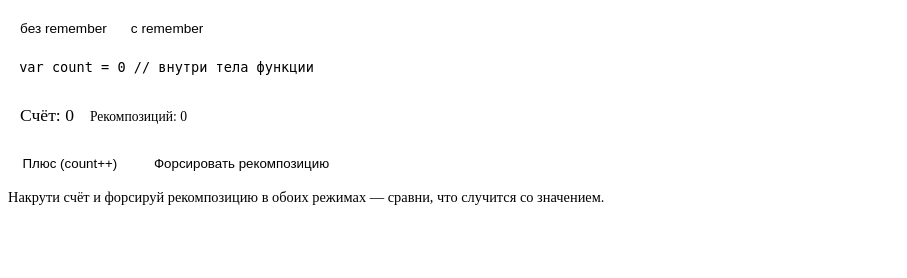
Test: обе судьбы значения: плашка «Выполнено!», запись в store и XP
Click the button "Плюс (count++)" at (70, 164), box [8,150,132,177]
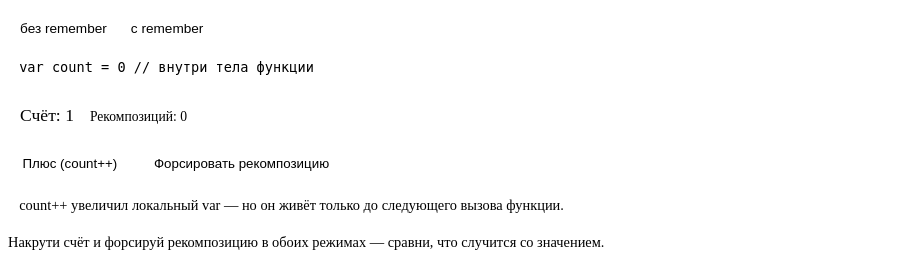
Click the button "Форсировать рекомпозицию" at (242, 164), box [140,150,344,177]
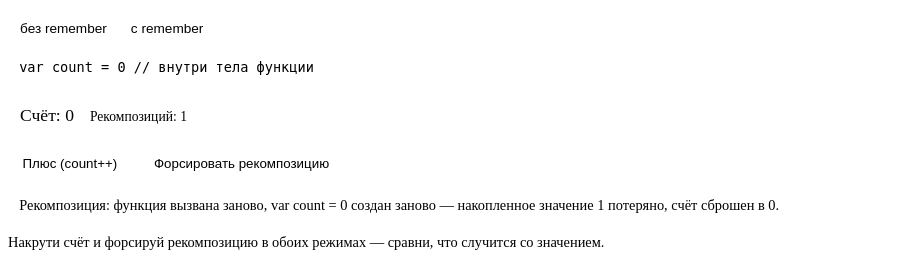
Expected: the text "Выполнено!" is not shown
Click the button "с remember" at (167, 28), box [119,16,215,41]
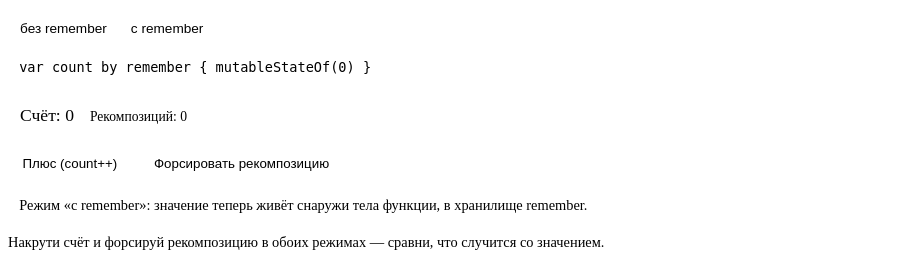
Click the button "Плюс (count++)" at (70, 164), box [8,150,132,177]
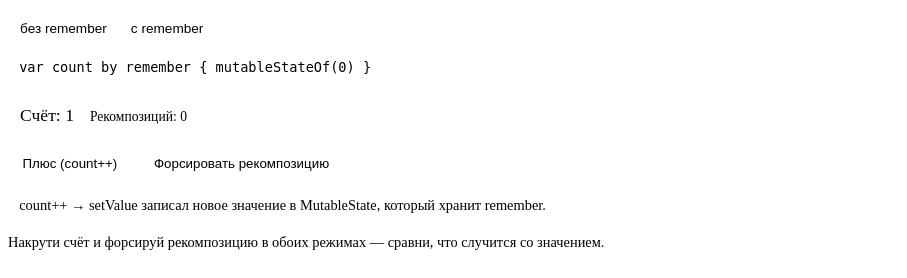
Click the button "Форсировать рекомпозицию" at (242, 164), box [140,150,344,177]
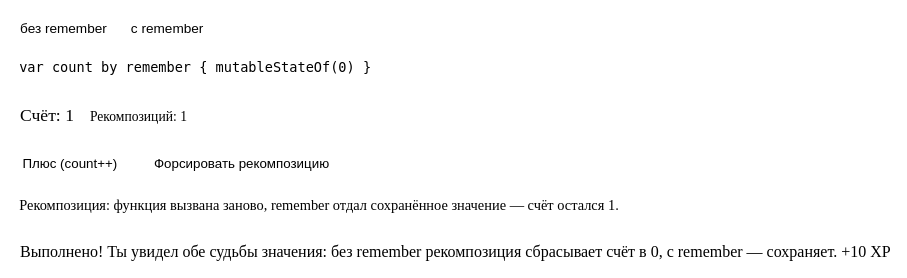
Expected: the text "Выполнено!" is shown, [20,243,837,260]
